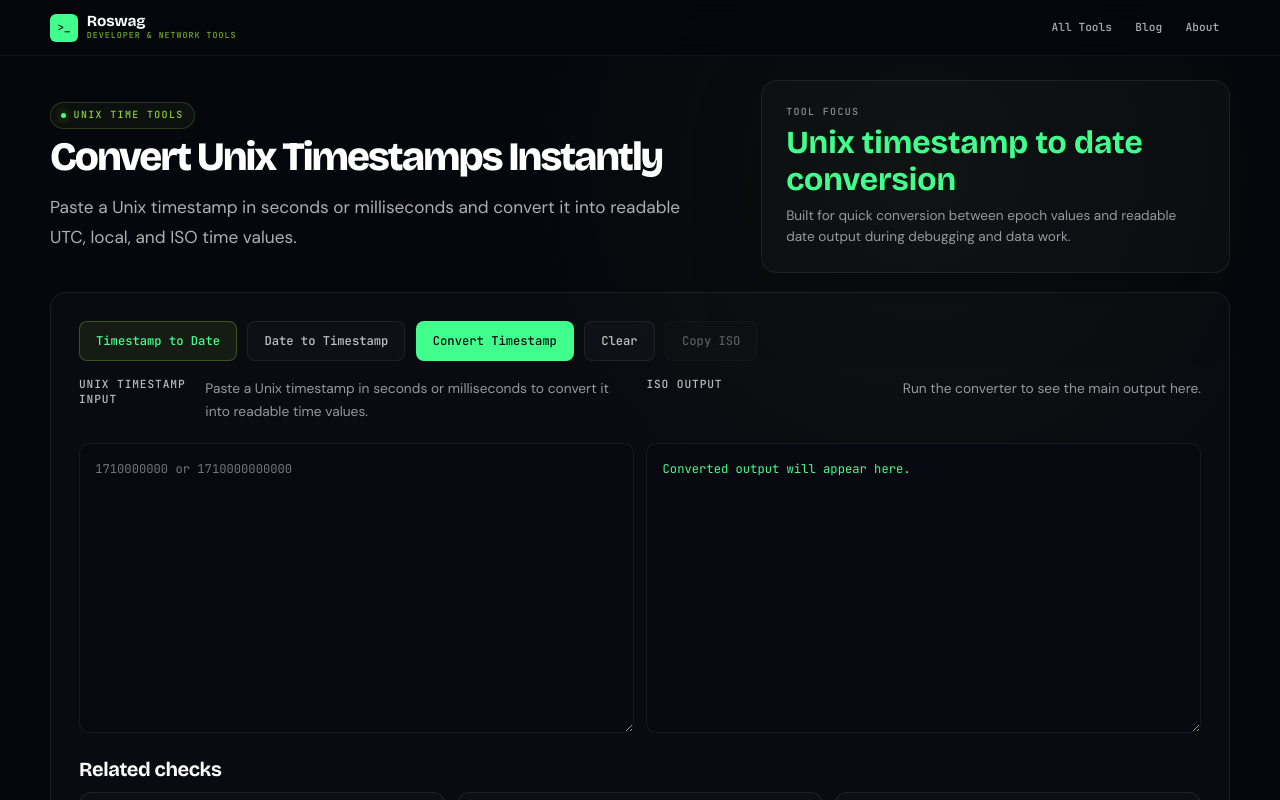
Test case: TimestampPage › shows a backend validation error for invalid timestamp input
Type "bad-value" into the text box named "Unix timestamp input" at (356, 588), box [79,443,634,733]
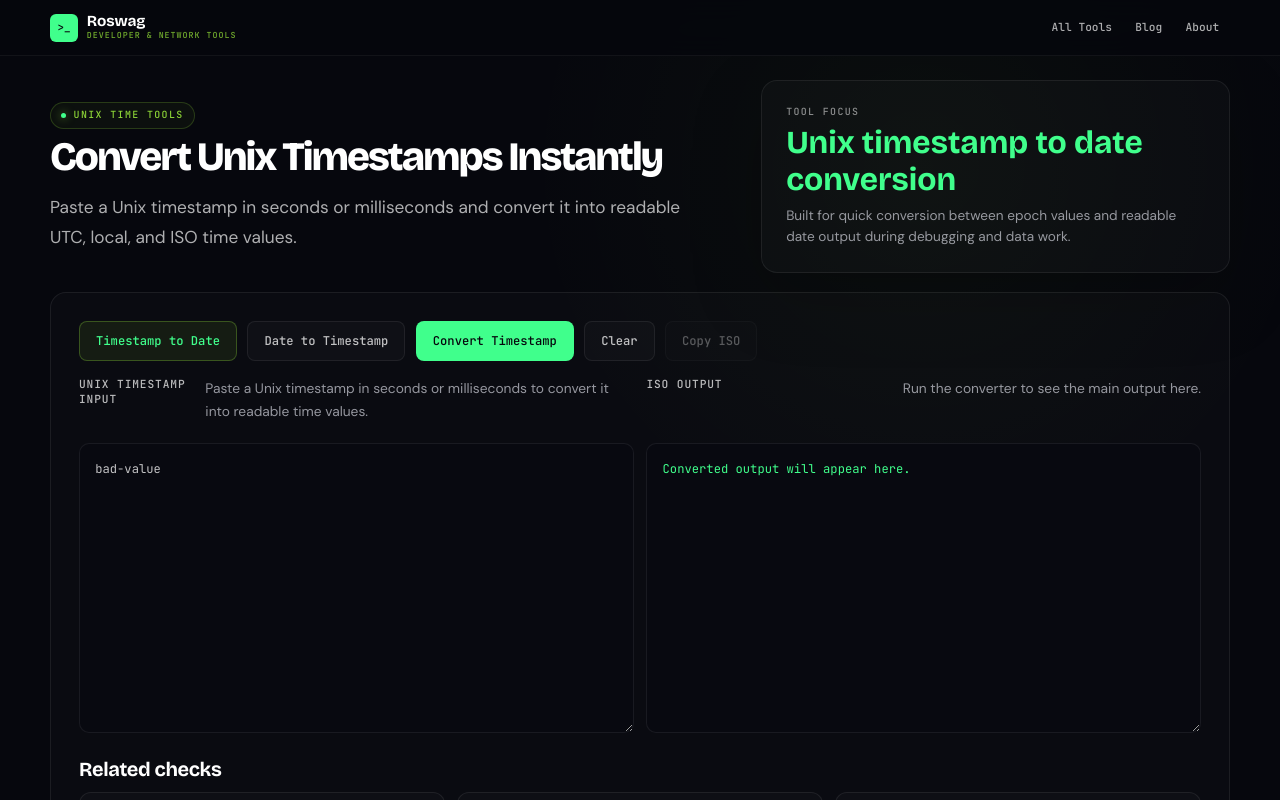
Click the button "Convert Timestamp" at (495, 341), box [416,321,574,361]
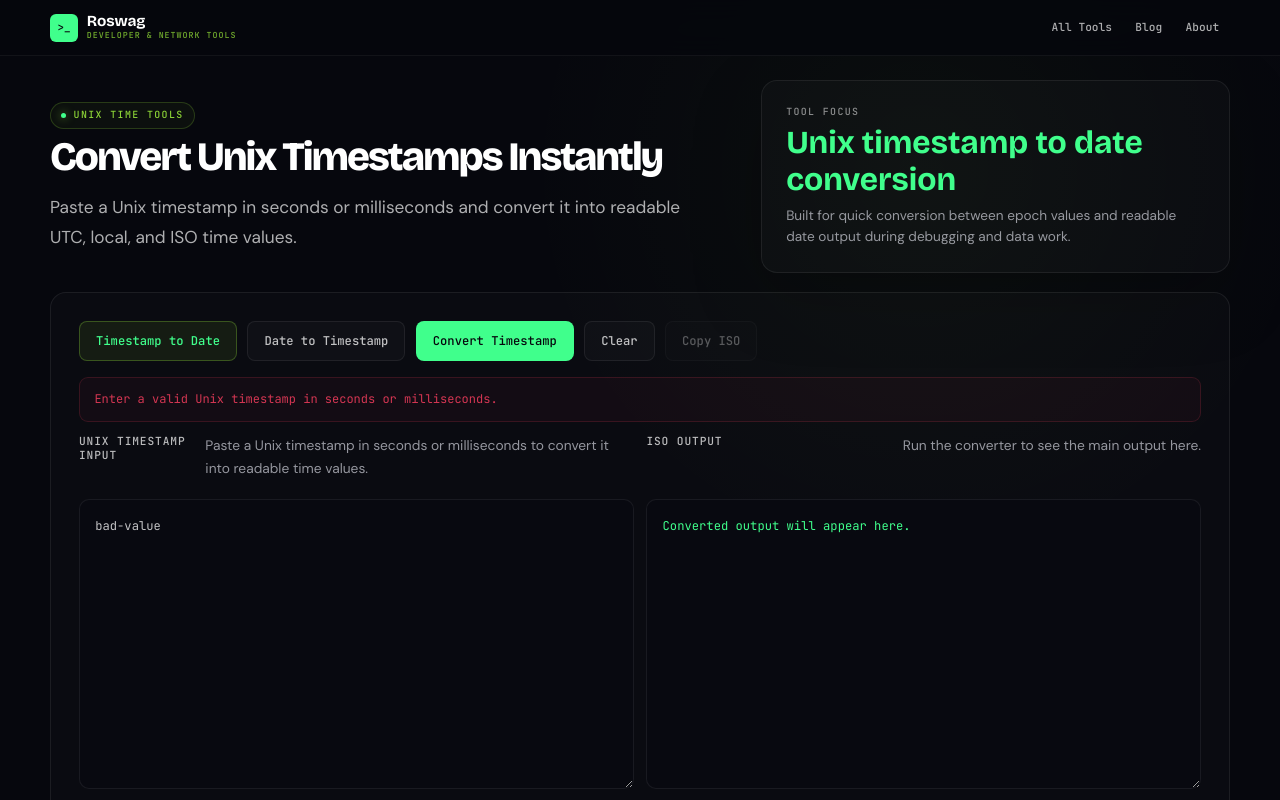
Now the text "Enter a valid Unix timestamp in seconds or milliseconds." is shown, box [79,377,1201,422]
